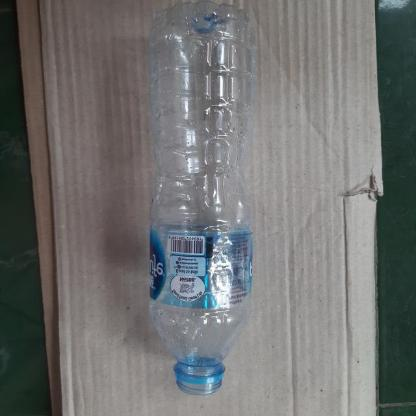Plastic Bottle: (145, 0, 258, 394)
